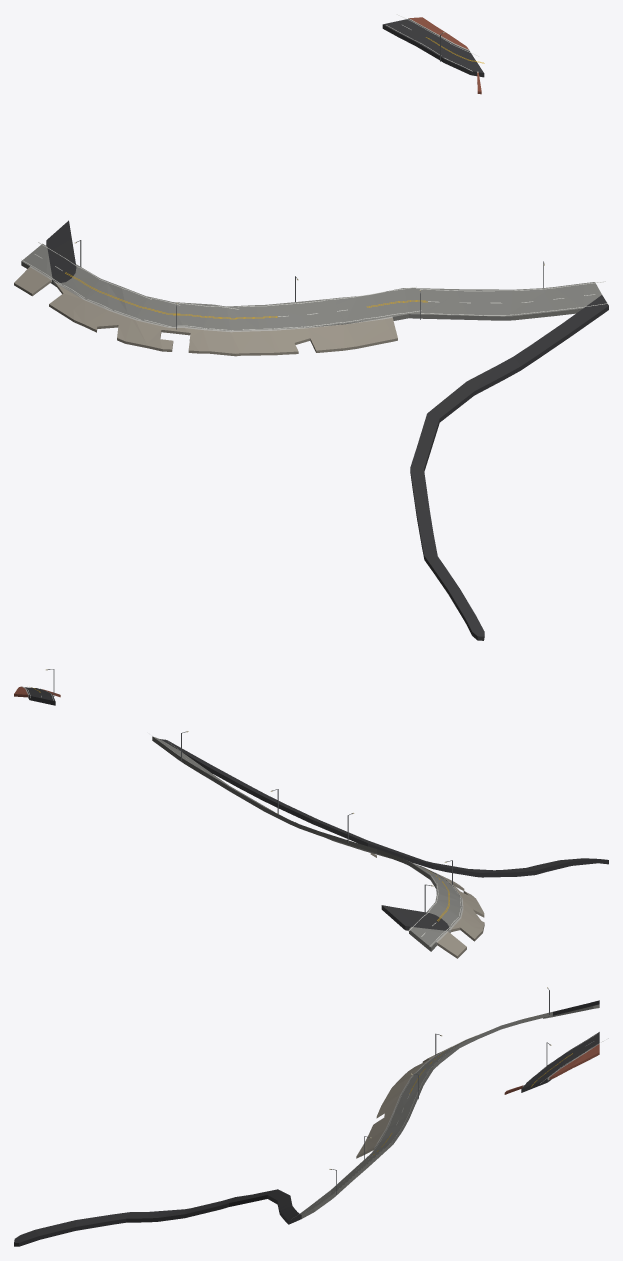
3 views of the same model, one above another, from view 1: azimuth 30°, elevation 25°; view 2: azimuth 150°, elevation 25°; view 3: azimuth 270°, elevation 25° (orthographic). The views are drawn at different scales.
Size of the model in its own units: 131 by 95.13 by 163.
